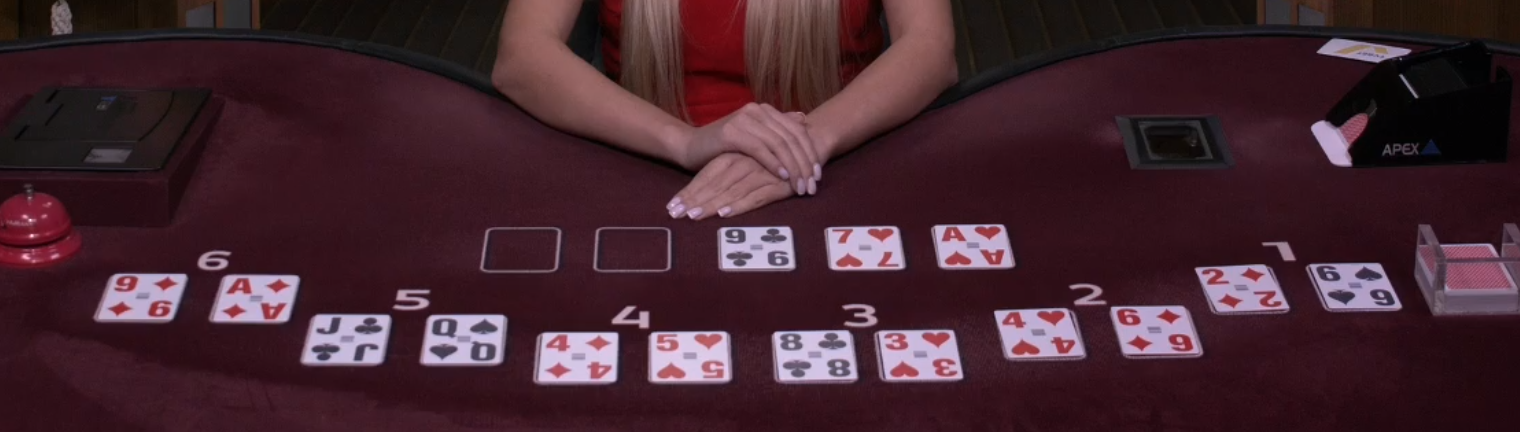2d: (1195, 260, 1296, 318)
3h: (872, 325, 968, 382)
4d: (530, 329, 627, 391)
4h: (987, 304, 1088, 359)
5h: (641, 329, 739, 385)
6d: (1101, 300, 1210, 361)
6s: (1302, 255, 1412, 316)
7h: (822, 222, 910, 275)
8c: (770, 326, 864, 388)
9c: (714, 219, 800, 275)
9d: (95, 266, 186, 330)
asd: (214, 270, 300, 325)
ash: (926, 218, 1019, 276)
jc: (302, 306, 393, 374)
qs: (419, 306, 512, 367)
